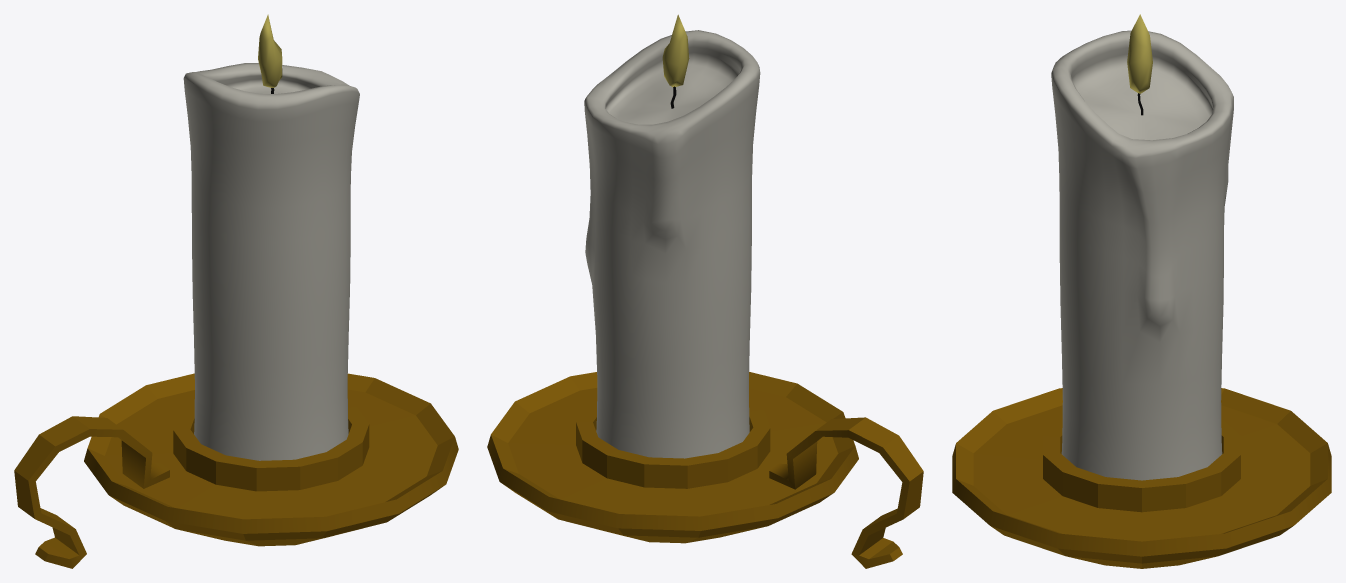
File: candle_v01.fbx
The picture shows the model from 3 angles, left to right: view 1: azimuth 30°, elevation 25°; view 2: azimuth 150°, elevation 25°; view 3: azimuth 270°, elevation 25°; orthographic projection. The views are drawn at different scales.
Visible parts, largest first — view 1: candle1, tray1, tray_handle, pCube2; view 2: candle1, tray1, tray_handle, pCube2; view 3: candle1, tray1, pCube2.
Boxes of the visible parts, x1,y1,x2,y2 form: candle1: (183,63,359,460); tray1: (84,373,458,546); tray_handle: (14,416,169,568); pCube2: (258,14,282,87); candle1: (584,30,760,458); tray1: (487,372,858,543); tray_handle: (769,417,923,568); pCube2: (662,14,689,87); candle1: (1051,30,1233,480); tray1: (952,388,1331,568); pCube2: (1127,14,1152,93).
Bounding box in the file's own units: 18.66 × 14.43 × 21.68.
